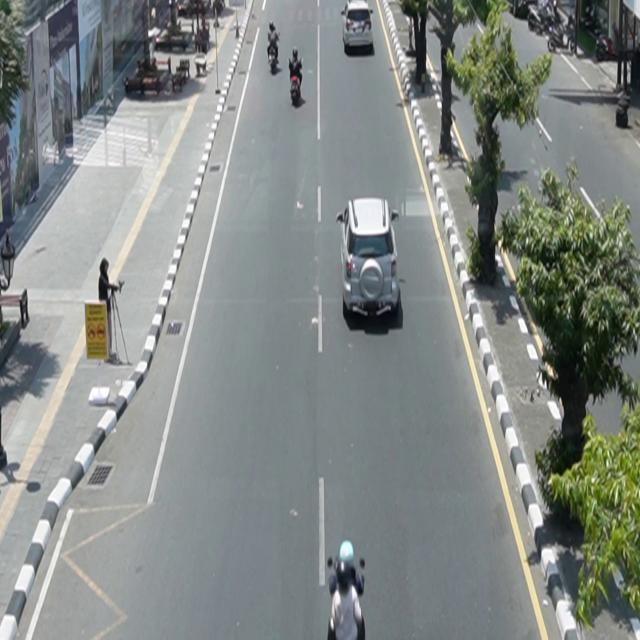car: (337, 197, 401, 321), (342, 1, 374, 51)
